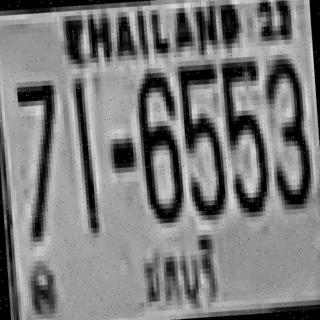N01: (70, 78, 98, 234)
N03: (260, 53, 310, 206)
N05: (218, 56, 268, 214), (175, 59, 225, 216)
N06: (132, 67, 182, 220)
N07: (14, 75, 64, 238), (15, 75, 59, 189)
P13: (133, 230, 221, 316)
